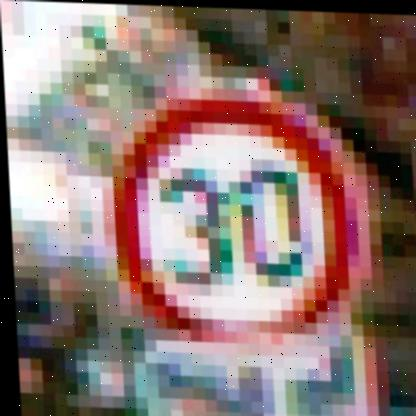Speed Limit -30-: (99, 74, 383, 352)
